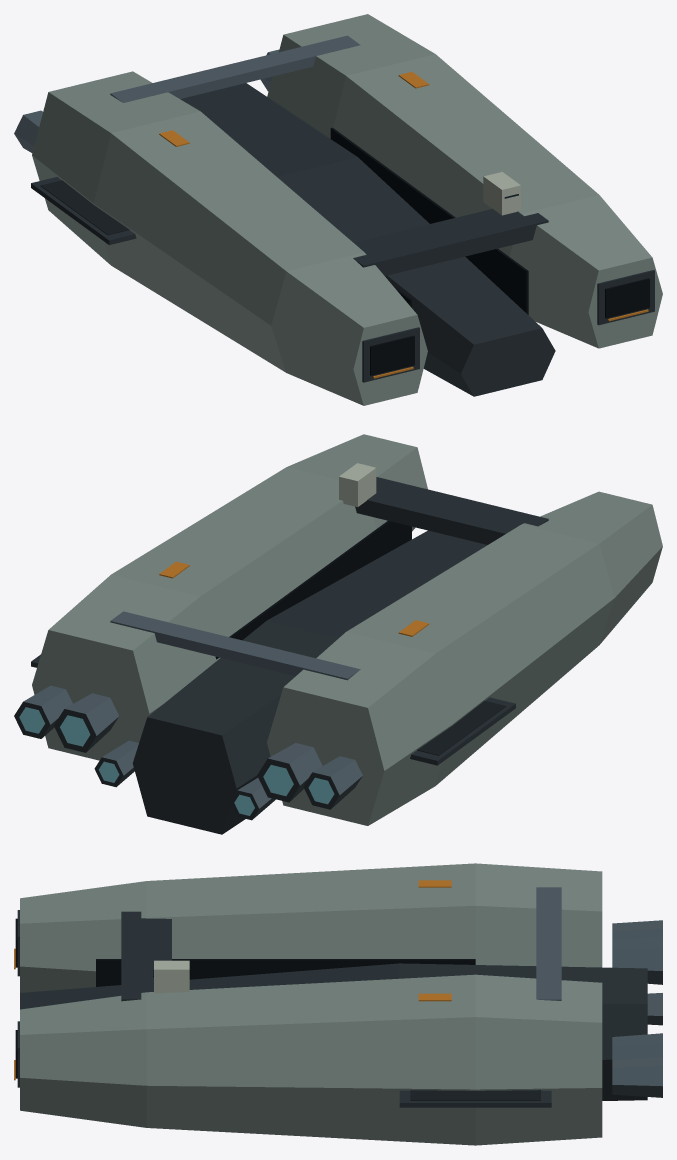
Rendered from colossus-low.glb.
3 views of the same model, one above another, from view 1: azimuth 30°, elevation 25°; view 2: azimuth 150°, elevation 25°; view 3: azimuth 270°, elevation 25° (orthographic). The views are drawn at different scales.
Parts seen in each view (by area): view 1: AV_colossus-low; view 2: AV_colossus-low; view 3: AV_colossus-low.
Boxes of the visible parts, box(x1,y1,x2,y2) form: AV_colossus-low: box(14, 14, 662, 405); AV_colossus-low: box(14, 434, 662, 834); AV_colossus-low: box(14, 863, 662, 1145).
Bounding box in the file's own units: 1.18 × 0.4377 × 1.68.
1 material, 1 textured.
